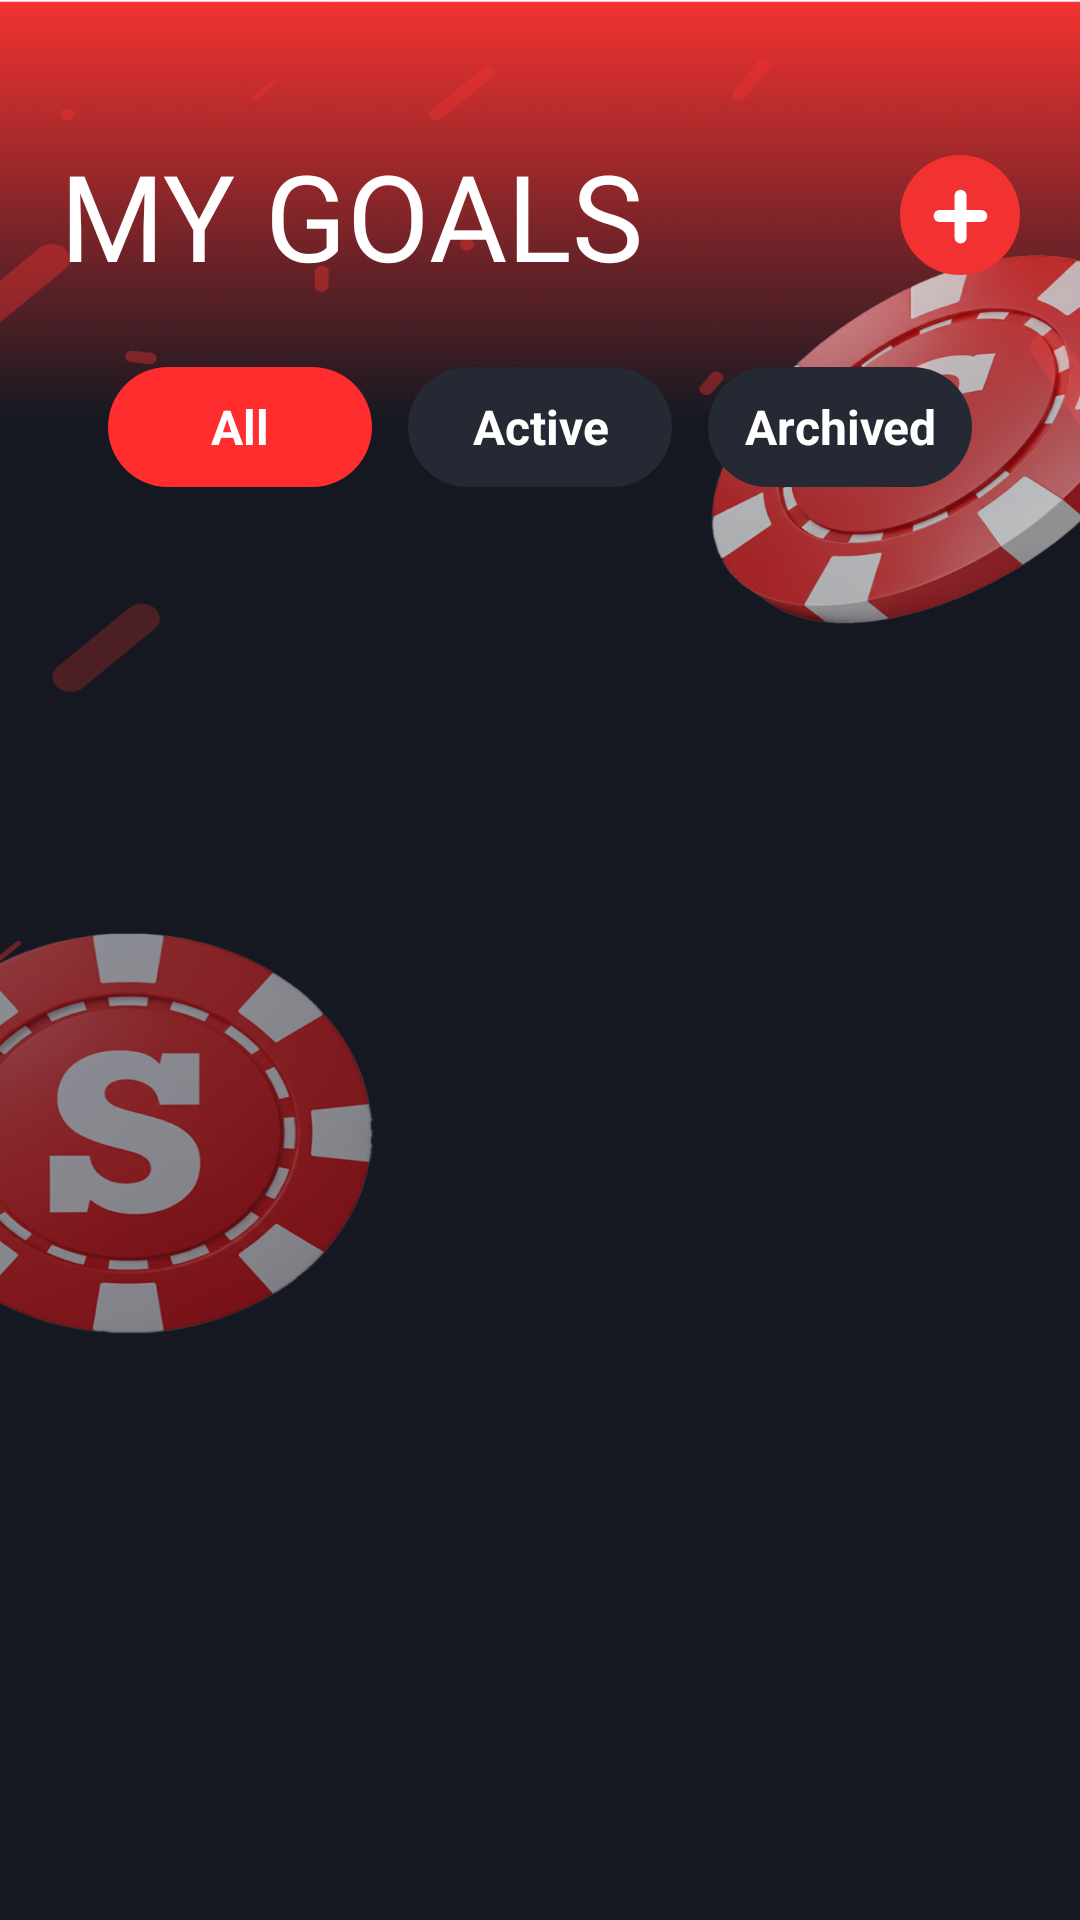

Icon click points for this 1080x1920 phone screenshot, format point (x, y):
Add Goal: point (960, 215)
